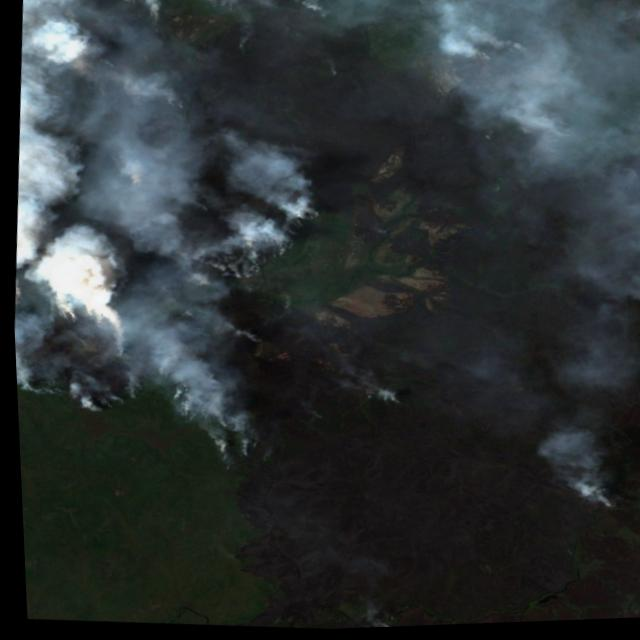fire: (204, 195, 320, 289), (59, 373, 142, 421), (194, 431, 260, 471), (160, 378, 203, 428), (13, 374, 58, 403), (577, 488, 619, 518), (40, 308, 92, 326), (230, 324, 267, 349), (100, 334, 133, 361)
